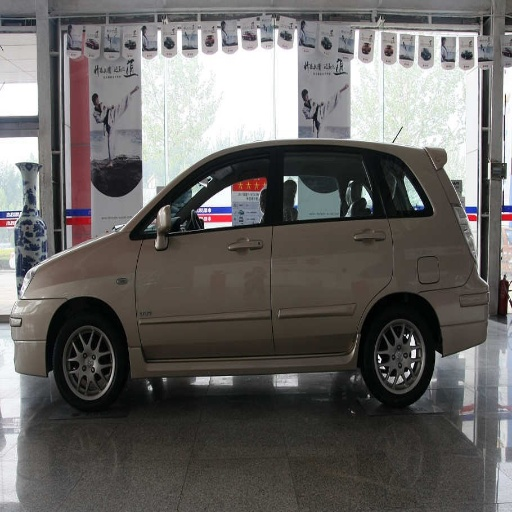back_left_door: (270, 142, 393, 352)
